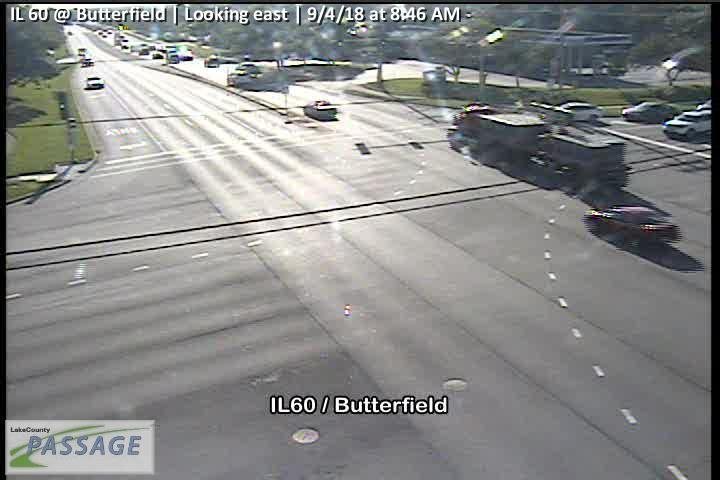SUV: (661, 109, 710, 149), (555, 101, 602, 124), (204, 55, 219, 67)
Sedan: (583, 206, 679, 250), (622, 101, 682, 124), (304, 100, 337, 121), (86, 77, 104, 89)
Truck: (448, 102, 630, 196)
